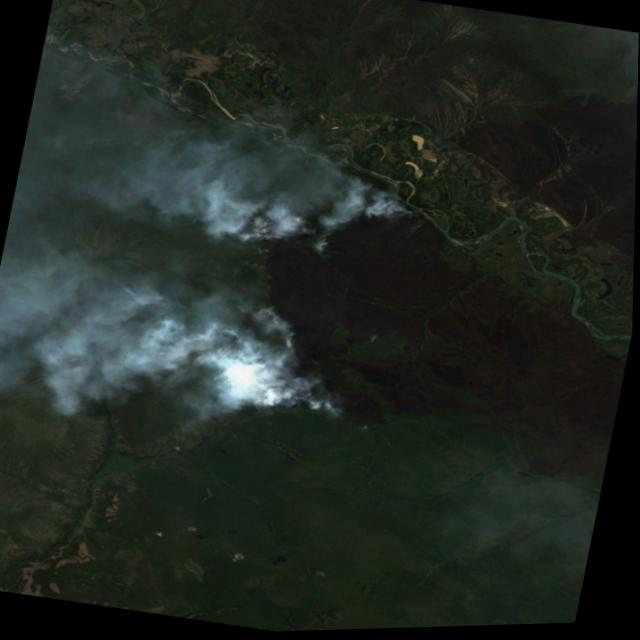fire: (227, 177, 437, 440)
